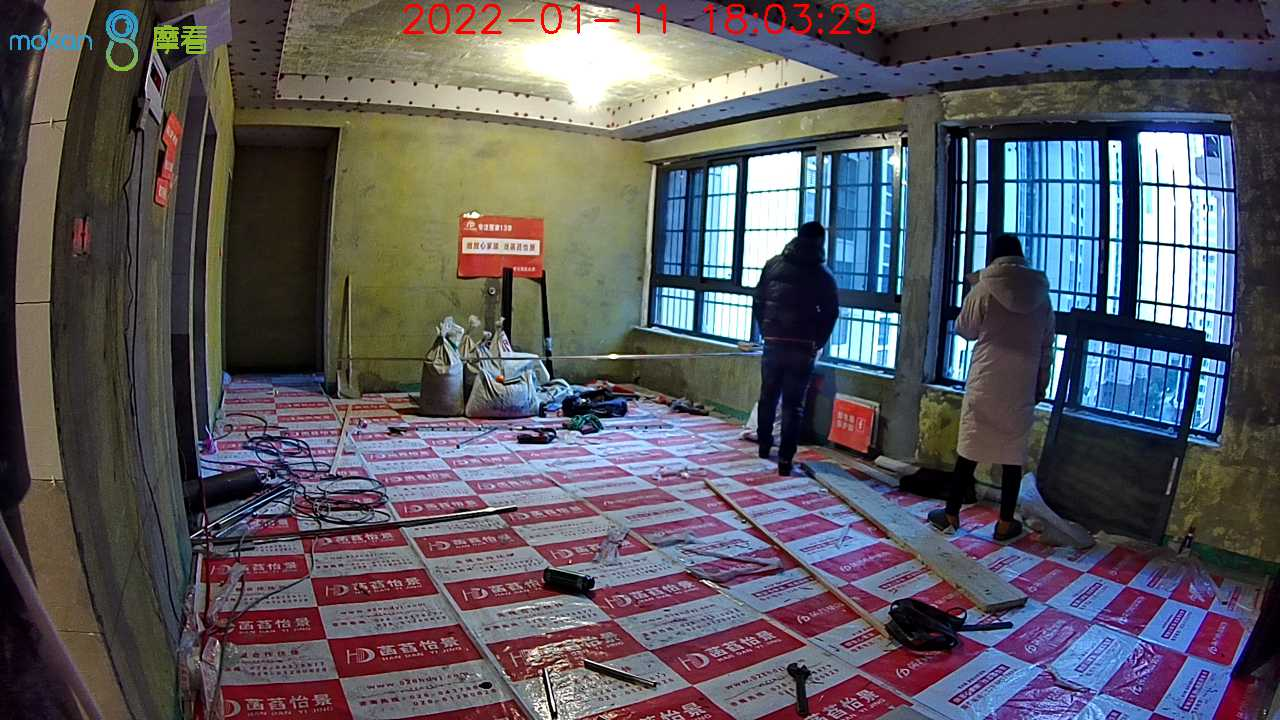people: (929, 230, 1057, 537), (758, 219, 839, 476)
window: (944, 128, 1229, 432), (648, 143, 902, 371)
